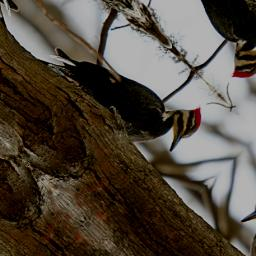Woodpecker: (36, 3, 212, 176)
